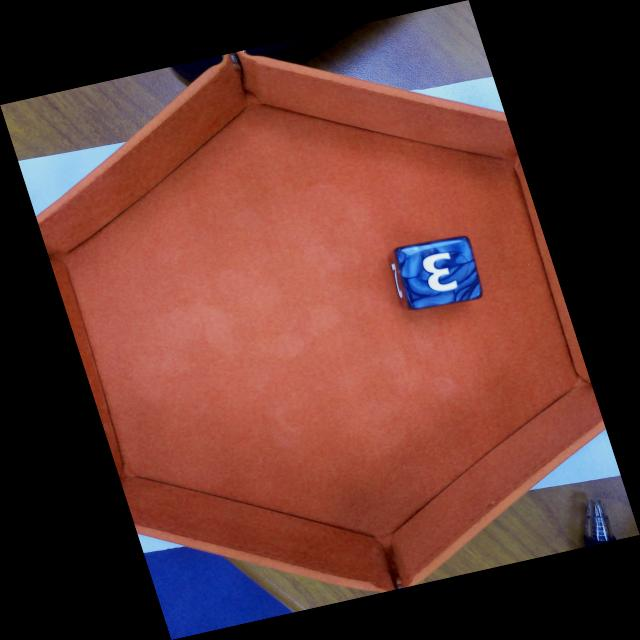dice: (400, 237, 485, 310)
